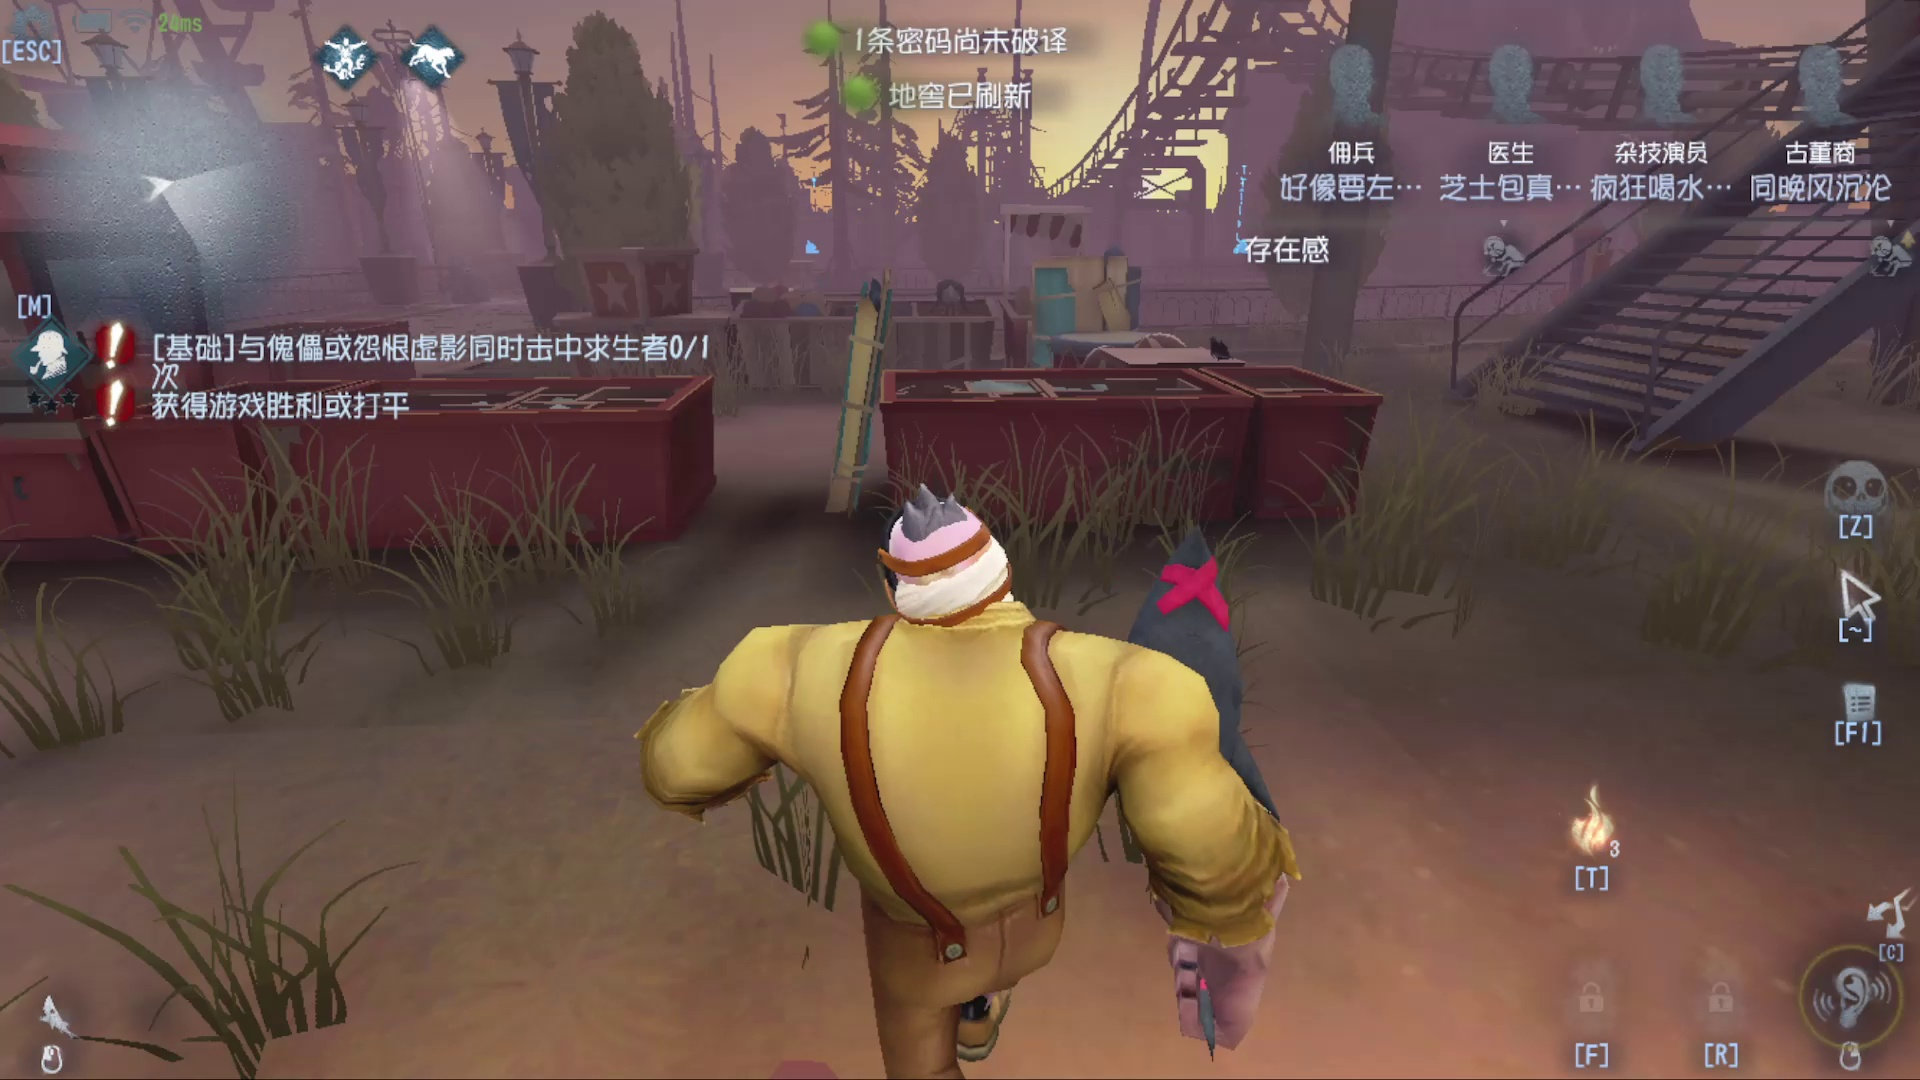密码机: (787, 149, 851, 269), (1211, 156, 1265, 273)
木板: (806, 285, 902, 522), (1011, 235, 1146, 396)
